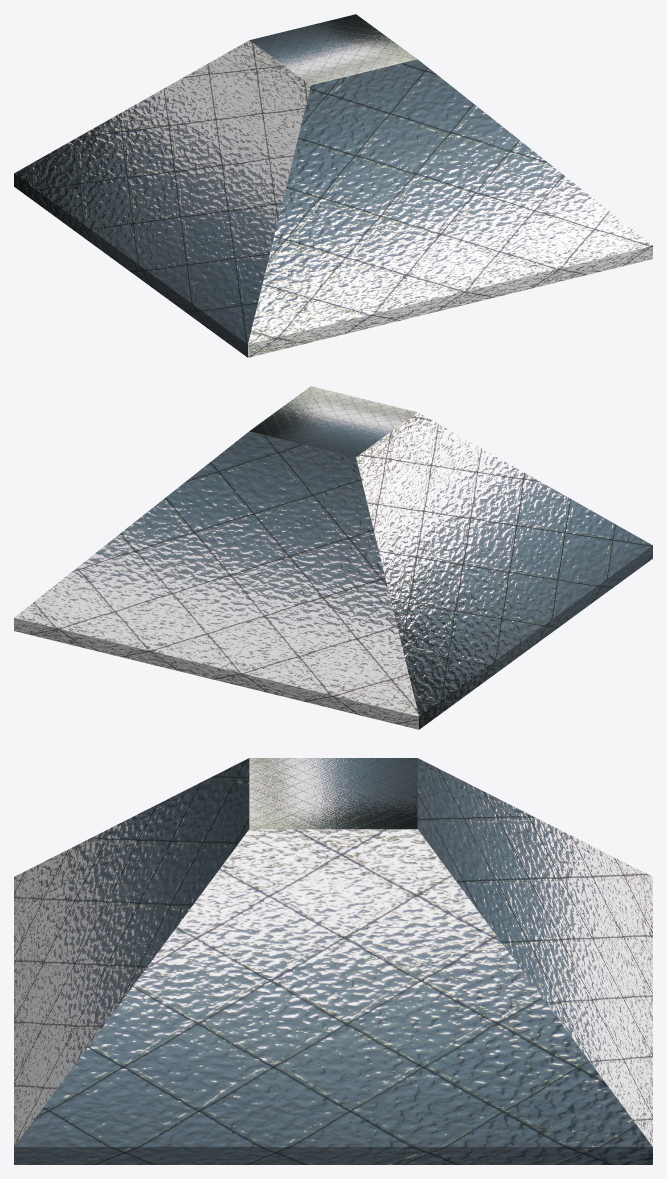
The model's file is roof.obj.
3 renders of one model, top to bottom at view 1: azimuth 30°, elevation 25°; view 2: azimuth 150°, elevation 25°; view 3: azimuth 270°, elevation 25°, orthographic. The views are drawn at different scales.
Parts seen in each view (by area): view 1: Cube_Cube.001; view 2: Cube_Cube.001; view 3: Cube_Cube.001.
Part boxes in pixels (x1,y1,x2,y2): Cube_Cube.001: [14, 14, 652, 357]; Cube_Cube.001: [14, 386, 652, 729]; Cube_Cube.001: [14, 758, 652, 1164].
Size of the model in its own units: 29.05 by 11.86 by 29.05.
1 material, 1 textured.
